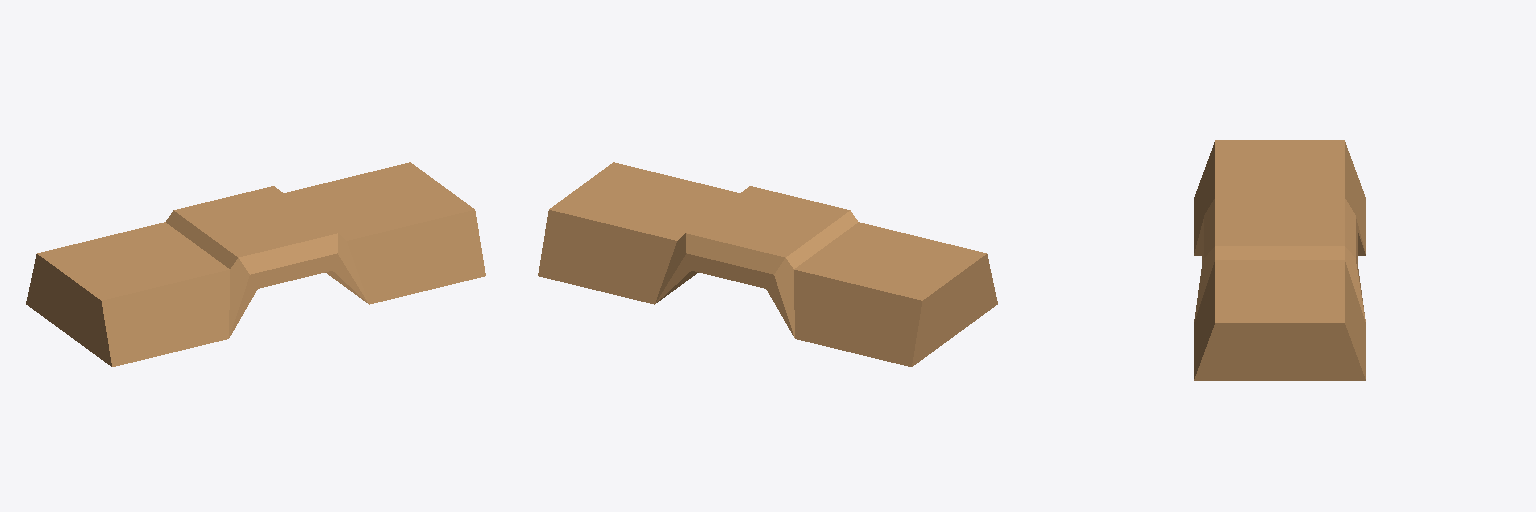
Rendered from Puzzle_Wall_Conduit_Passthrough_Base.obj.
The picture shows the model from 3 angles: view 1: azimuth 30°, elevation 25°; view 2: azimuth 150°, elevation 25°; view 3: azimuth 270°, elevation 25°; orthographic projection.
Parts seen in each view (by area): view 1: object1; view 2: object1; view 3: object1.
Part boxes in pixels (x1,y1,x2,y2): object1: (26, 162, 485, 366); object1: (538, 162, 997, 366); object1: (1194, 140, 1365, 380).
Size of the model in its own units: 1 by 0.175 by 0.4.